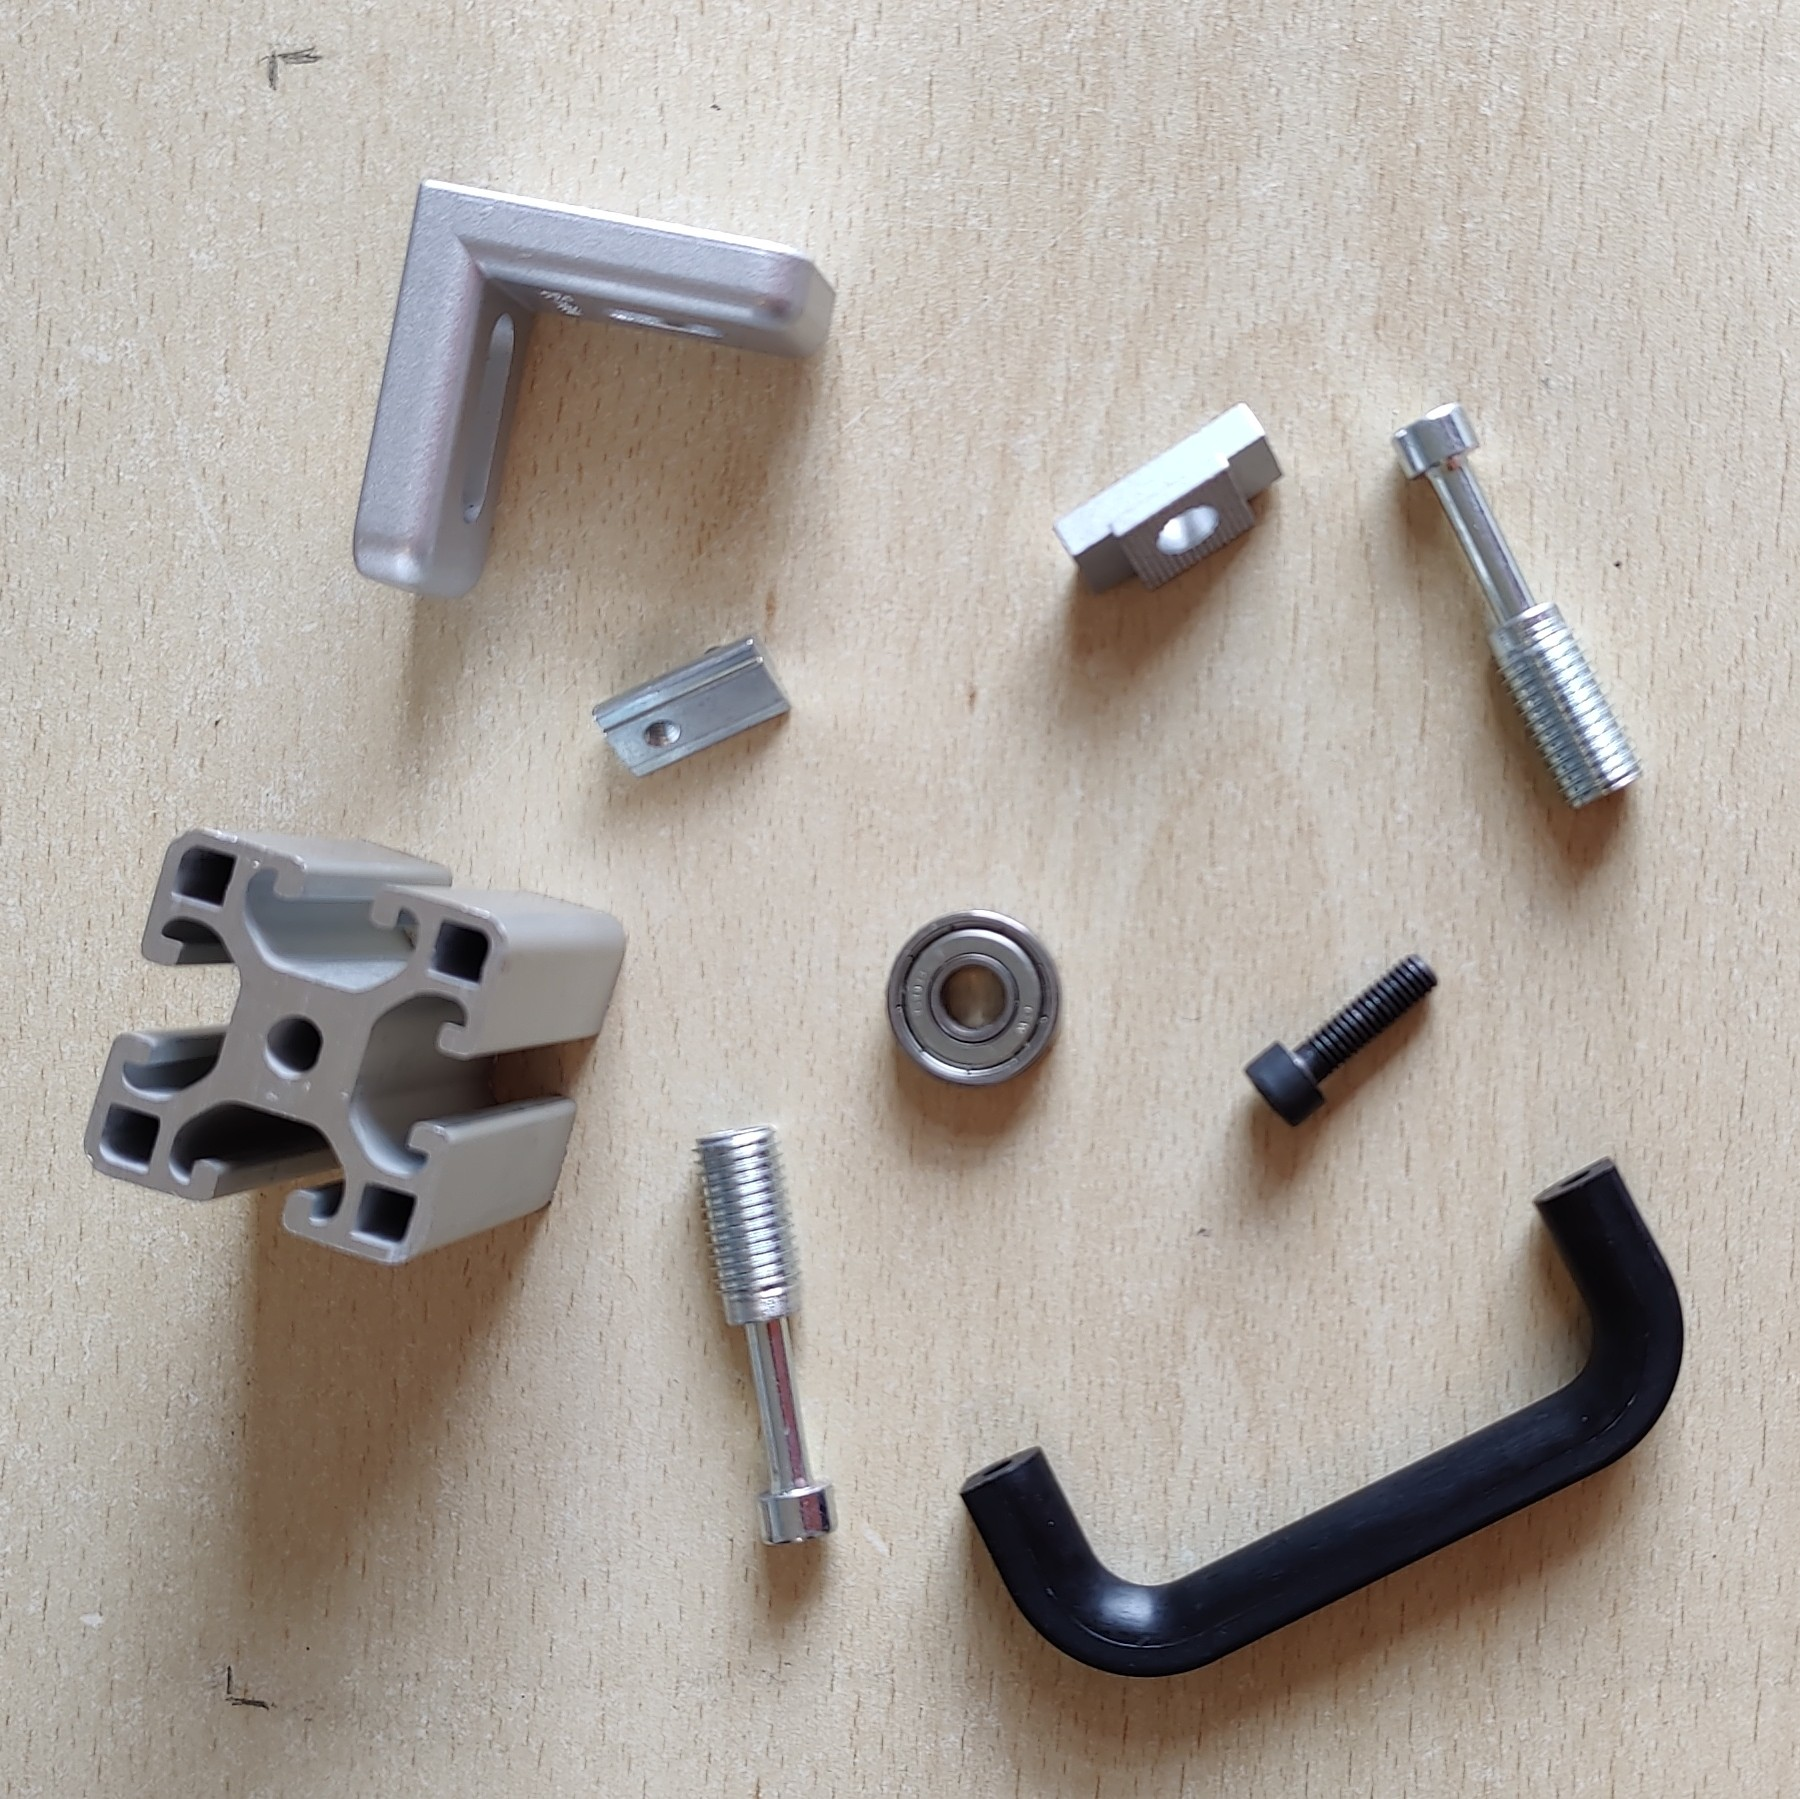Aluminium Extension: (81, 820, 627, 1269)
Ball Bearing: (884, 908, 1067, 1091)
Multiwinkel: (352, 176, 840, 603)
Pull Handle: (957, 1153, 1685, 1680)
Shoulder Socket Head Cap Screw: (1387, 400, 1648, 811), (688, 1125, 840, 1549)
Socket Head Cap Screw: (1240, 951, 1439, 1130)
T Nut Square: (1051, 399, 1285, 596)
T Spring Nut: (590, 629, 794, 779)
